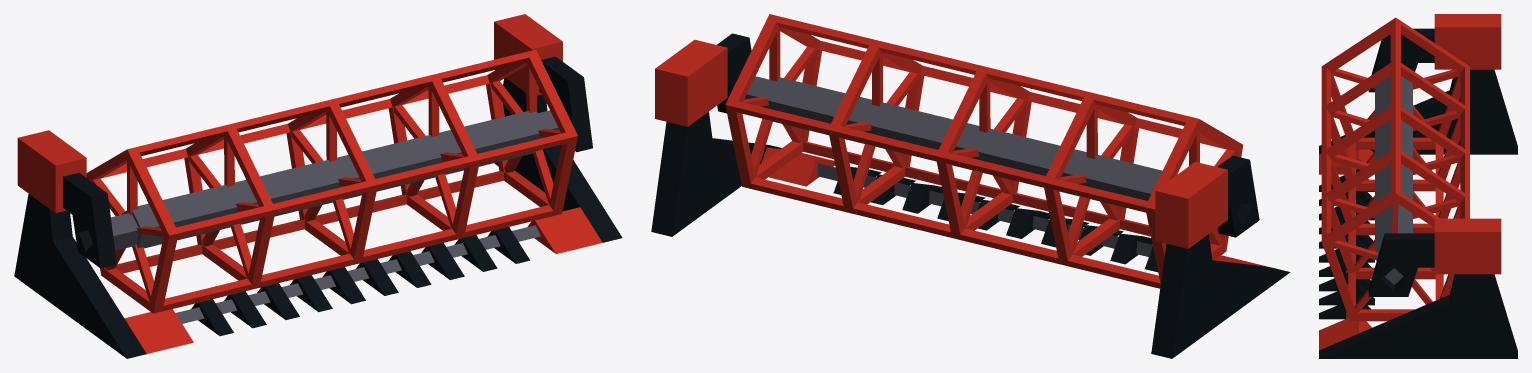
File: Agricultural_Machine_2_2.fbx
3 renders of one model, left to right at view 1: azimuth 30°, elevation 25°; view 2: azimuth 150°, elevation 25°; view 3: azimuth 270°, elevation 25°, orthographic. The views are drawn at different scales.
Parts seen in each view (by area): view 1: Agricultural_Machine_2_2; view 2: Agricultural_Machine_2_2; view 3: Agricultural_Machine_2_2.
Part boxes in pixels (x1,y1,x2,y2): Agricultural_Machine_2_2: (14,14,622,358); Agricultural_Machine_2_2: (651,14,1290,358); Agricultural_Machine_2_2: (1319,14,1517,358).
Size of the model in its own units: 132 by 41.47 by 50.74.
